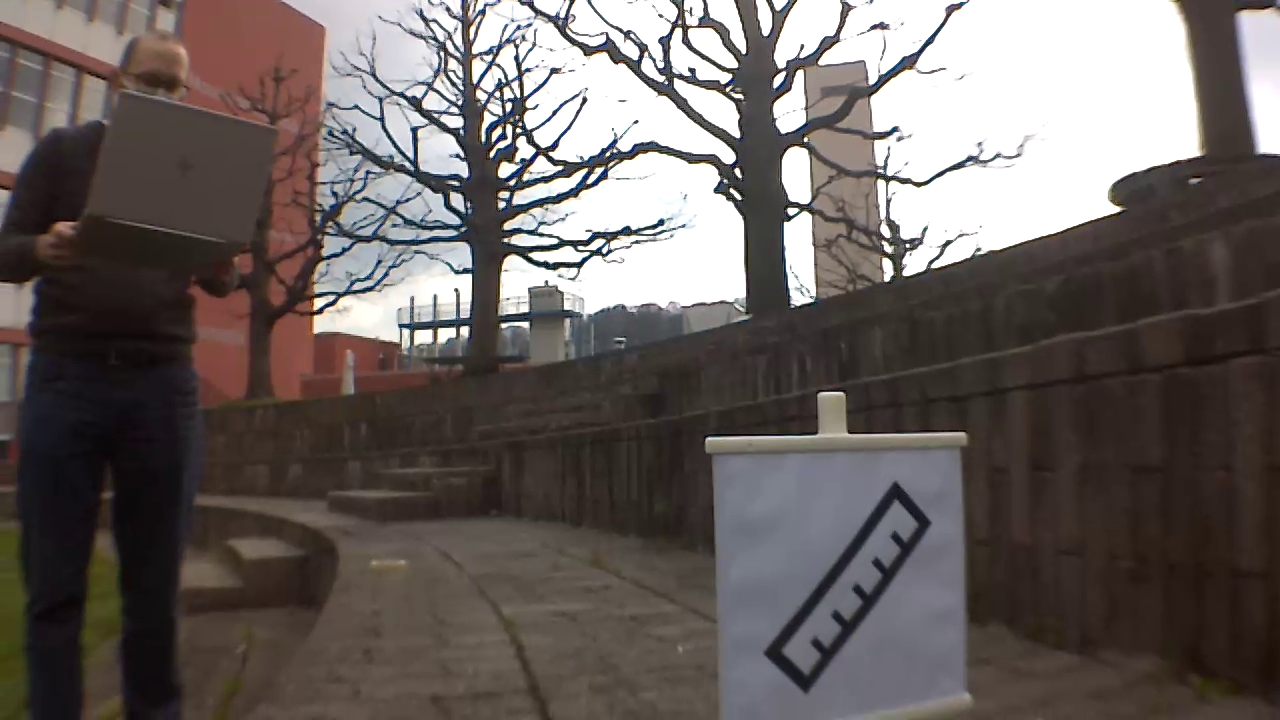ruler: (764, 482, 933, 699)
